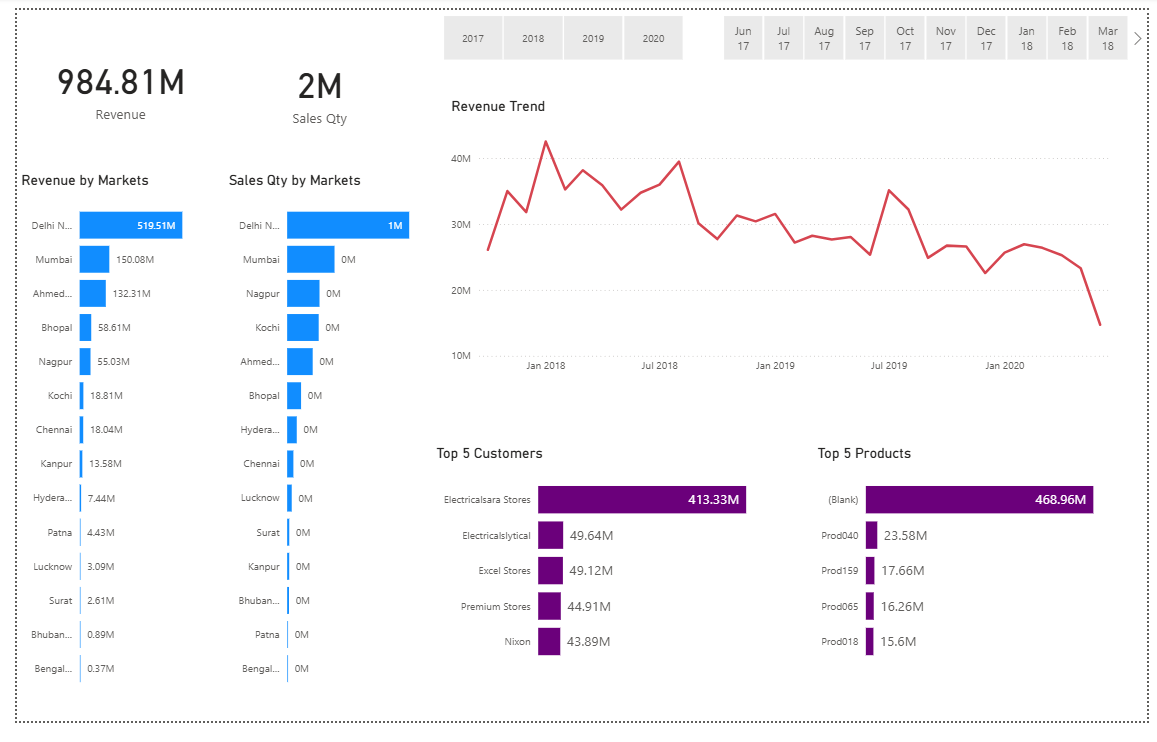

This screenshot's page, from the dashboard's own definition file:
{"tool":"powerbi","page":{"name":"Page 1","canvas":[1350,850],"ordinal":0},"visuals":[{"type":"card","fields":{"Values":["BaseMeasures (2).Revenue"]},"box":[0,0,247.9,184.6],"z":0},{"type":"card","fields":{"Values":["BaseMeasures (2).Sales Qty"]},"box":[247.9,0,227.9,193.1],"z":1000},{"type":"barChart","title":"Revenue by Markets","fields":{"Y":["BaseMeasures (2).Revenue"],"Category":["sales markets.markets_name"]},"box":[0,193.1,247.9,631.9],"z":2000},{"type":"barChart","title":"Sales Qty by Markets","fields":{"Y":["BaseMeasures (2).Sales Qty"],"Category":["sales markets.markets_name"]},"box":[247.9,193.1,247.9,631.9],"z":3000},{"type":"slicer","fields":{"Values":["sales date.year"]},"box":[483.2,0,335.5,66.5],"z":4000},{"type":"slicer","fields":{"Values":["sales date.cy_date"]},"box":[818.6,0,531.7,66.5],"z":5000},{"type":"barChart","title":"Top 5 Customers","fields":{"Y":["BaseMeasures (2).Revenue"],"Category":["sales customers.custmer_name"]},"box":[495.8,519,446.2,274.3],"z":6000},{"type":"barChart","title":"Top 5 Products","fields":{"Y":["BaseMeasures (2).Revenue"],"Category":["sales products.product_code"]},"box":[950.5,519,399.8,274.3],"z":7000},{"type":"lineChart","title":"Revenue Trend","fields":{"Y":["BaseMeasures (2).Revenue"],"Category":["sales date.cy_date"]},"box":[513.8,104.4,809.1,338.6],"z":8000}]}

Visuals, with their boxes in screenshot pixels (x1, y1, x2, y2), scaled from the page's 1350x850 canvas onto the 1157x742 screenshot:
card - BaseMeasures (2).Revenue: region(0, 0, 212, 161)
card - BaseMeasures (2).Sales Qty: region(212, 0, 408, 169)
"Revenue by Markets" barChart: region(0, 169, 212, 720)
"Sales Qty by Markets" barChart: region(212, 169, 425, 720)
slicer - sales date.year: region(414, 0, 702, 58)
slicer - sales date.cy_date: region(702, 0, 1156, 58)
"Top 5 Customers" barChart: region(425, 453, 807, 693)
"Top 5 Products" barChart: region(815, 453, 1156, 693)
"Revenue Trend" lineChart: region(440, 91, 1134, 387)
